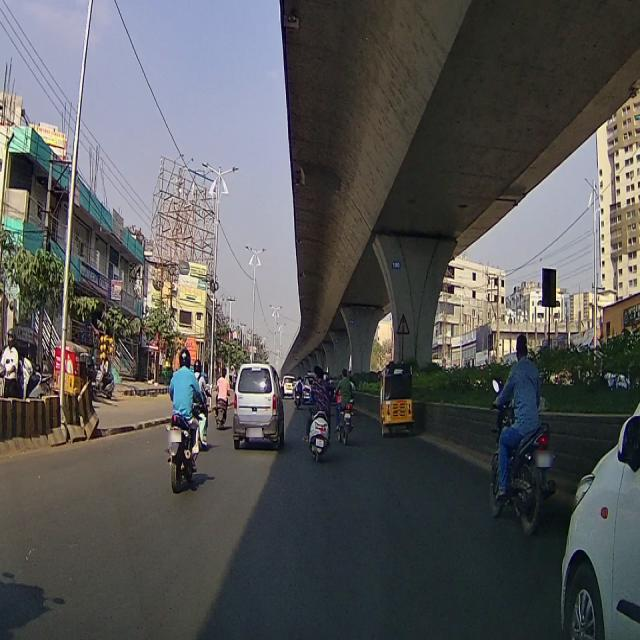right-hand-curve: (396, 312, 410, 340)
